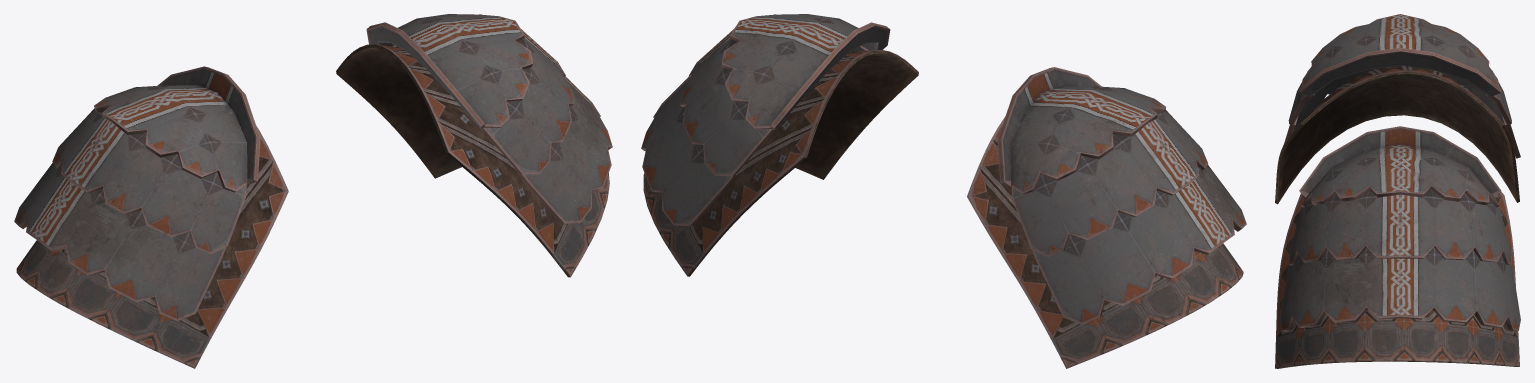
File: sk_dwarf_dain_pauldron_heavy_a.fbx
3 views of the same model, side by side, from view 1: azimuth 30°, elevation 25°; view 2: azimuth 150°, elevation 25°; view 3: azimuth 270°, elevation 25° (orthographic). The views are drawn at different scales.
Visible parts, largest first — view 1: sk_dwarf_dain_pauldron_heavy_a; view 2: sk_dwarf_dain_pauldron_heavy_a; view 3: sk_dwarf_dain_pauldron_heavy_a.
Part boxes in pixels (left/top/right/bottom): sk_dwarf_dain_pauldron_heavy_a: left=14, top=14, right=612, bottom=368; sk_dwarf_dain_pauldron_heavy_a: left=641, top=14, right=1246, bottom=368; sk_dwarf_dain_pauldron_heavy_a: left=1275, top=14, right=1520, bottom=368.
Size of the model in its own units: 0.7326 by 0.3065 by 0.2745.
1 material, 1 textured.
